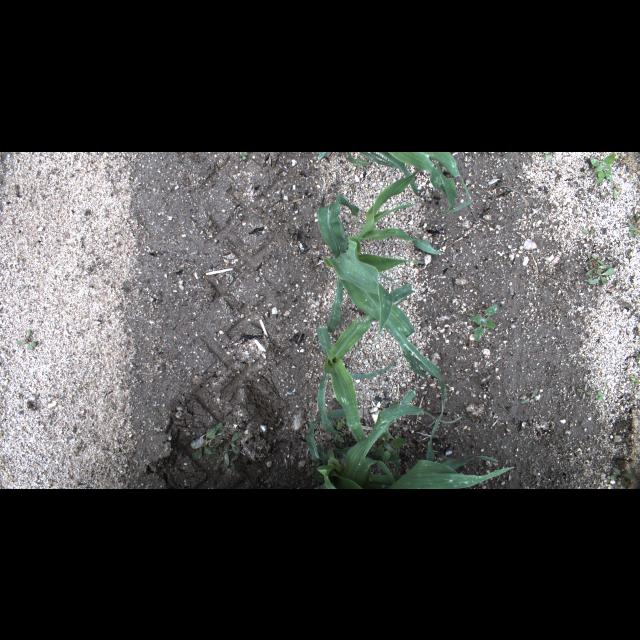crop: (318, 170, 447, 402), (306, 390, 460, 488), (391, 398, 514, 488), (316, 316, 396, 442), (346, 152, 474, 214), (316, 151, 326, 161)
weed: (189, 421, 227, 461), (372, 426, 406, 469), (212, 430, 242, 472), (472, 303, 498, 343), (589, 152, 615, 184), (609, 466, 635, 486), (16, 330, 38, 350), (590, 266, 614, 284), (574, 381, 592, 399), (584, 266, 610, 276), (520, 390, 538, 404), (626, 220, 638, 238), (612, 183, 624, 200), (581, 226, 597, 237), (336, 413, 344, 431), (584, 253, 594, 267), (628, 212, 638, 225), (628, 374, 638, 386), (592, 253, 602, 264), (594, 391, 604, 401), (541, 151, 551, 159), (239, 152, 249, 158), (633, 350, 639, 360)
